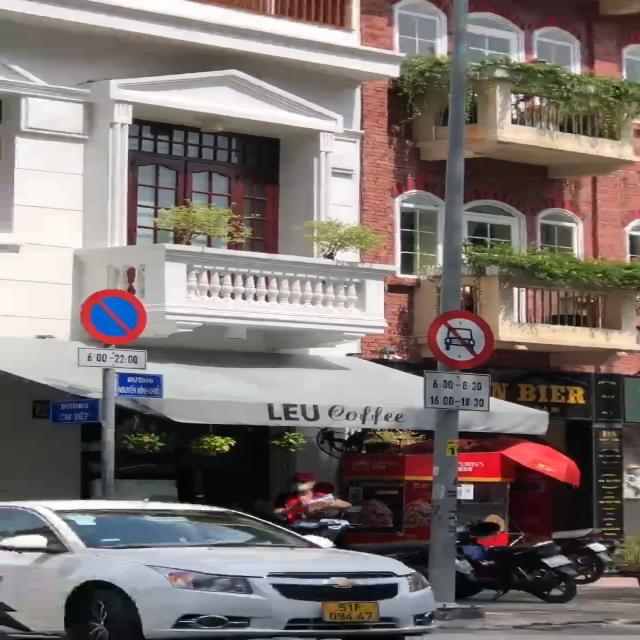Bien bao cam do xe: (78, 284, 153, 348)
Bien bao cam xe oto: (420, 306, 500, 372)
